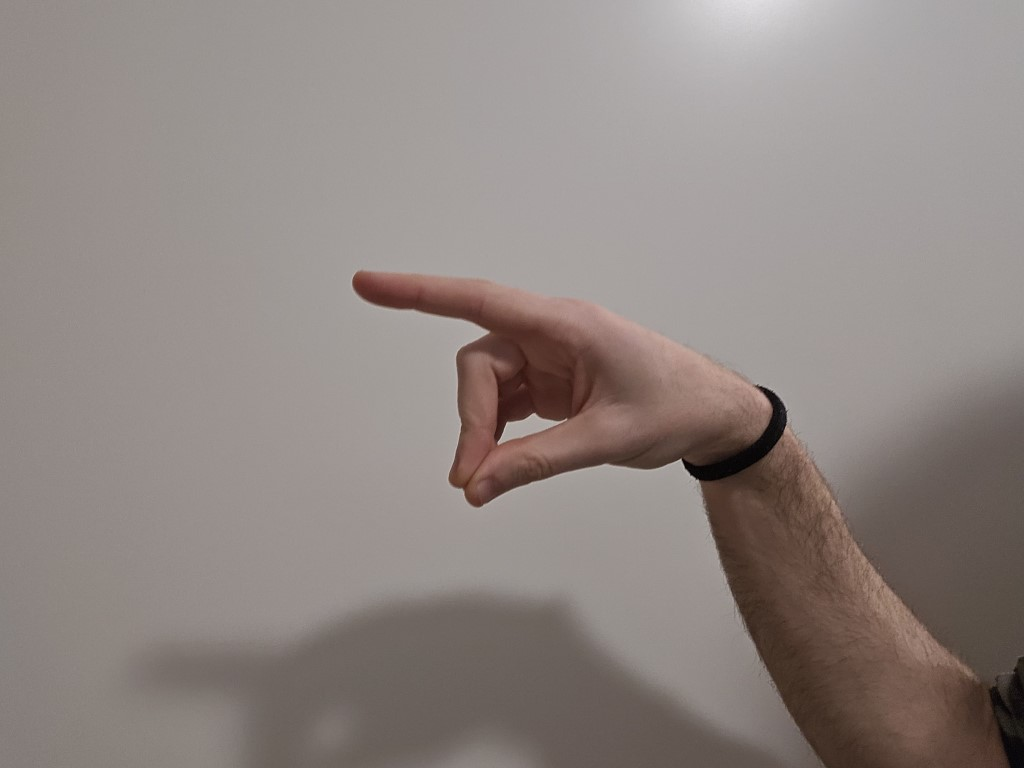p: (308, 227, 700, 547)
